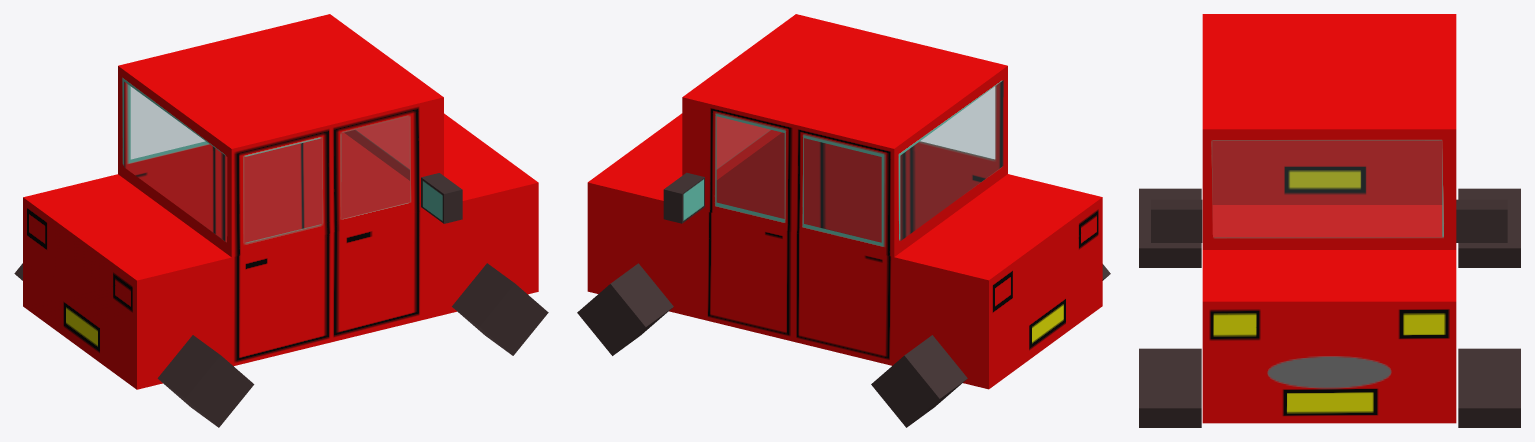
The model's file is car.fbx.
3 renders of one model, left to right at view 1: azimuth 30°, elevation 25°; view 2: azimuth 150°, elevation 25°; view 3: azimuth 270°, elevation 25°, orthographic. The views are drawn at different scales.
Parts seen in each view (by area): view 1: pCube11; view 2: pCube11; view 3: pCube11.
Part boxes in pixels (box(x1,y1,x2,y2)): pCube11: box(14, 14, 548, 427); pCube11: box(577, 14, 1110, 427); pCube11: box(1139, 14, 1520, 427).
Size of the model in its own units: 10.09 by 5.95 by 7.45.
Materials: 2 (1 with a texture image).
